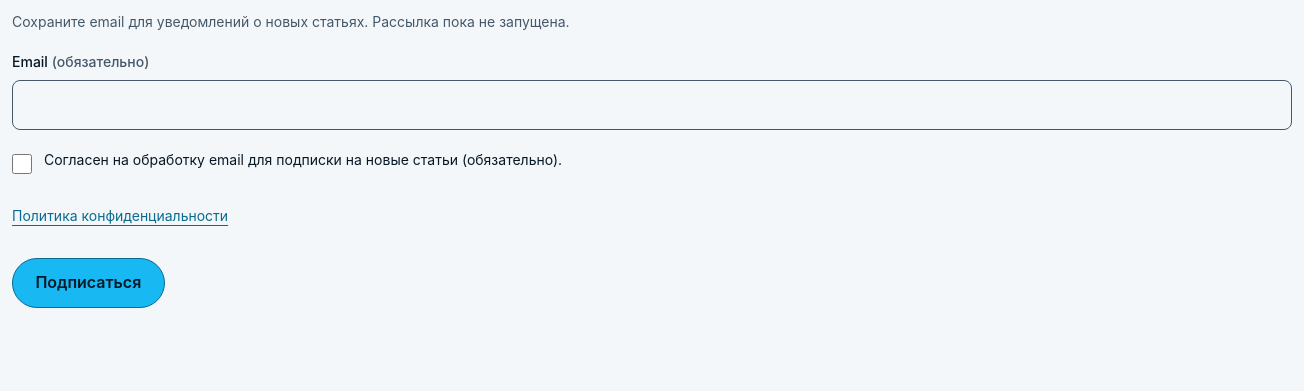
public forms › associates backend validation with the field without exposing raw response input
In the field labelled "Email (обязательно)": (652, 105) [12,80,1292,130], type "reader@example.com"
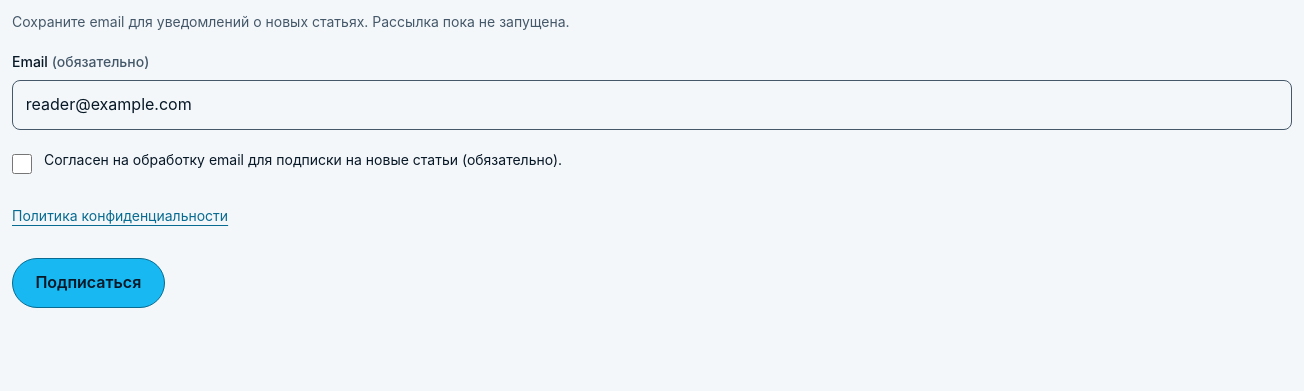
Click the checkbox: (22, 164) [12,154,32,174]
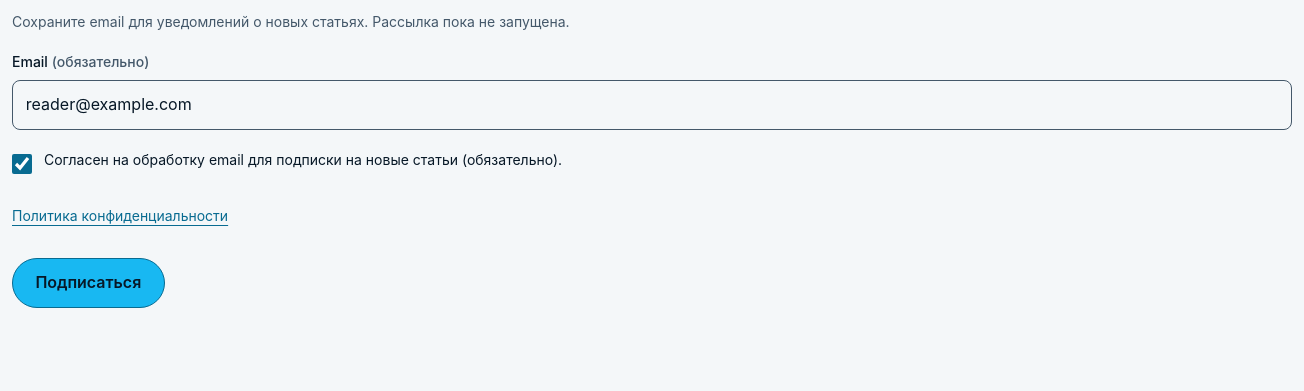
Click the button: (88, 283) [12,258,165,308]
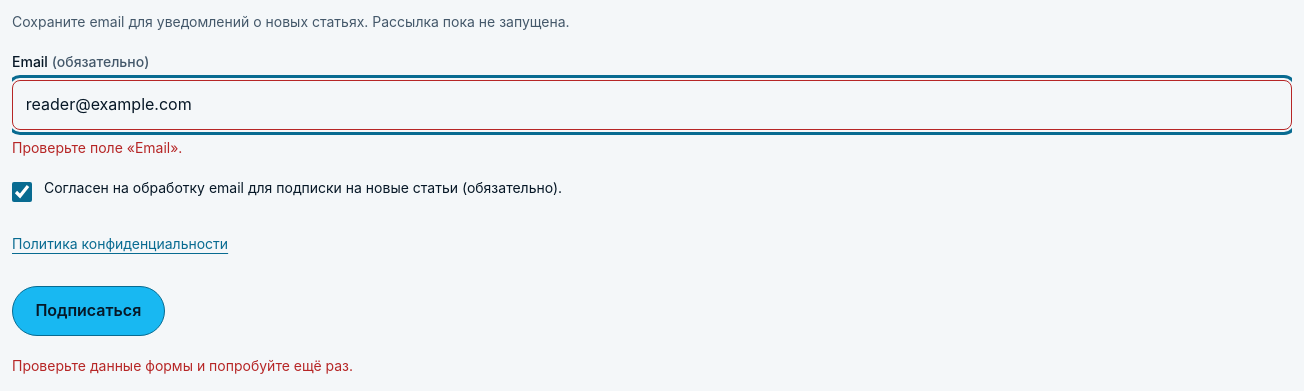
Check: the text "Проверьте поле «Email»." is shown, box [12,139,182,156]
